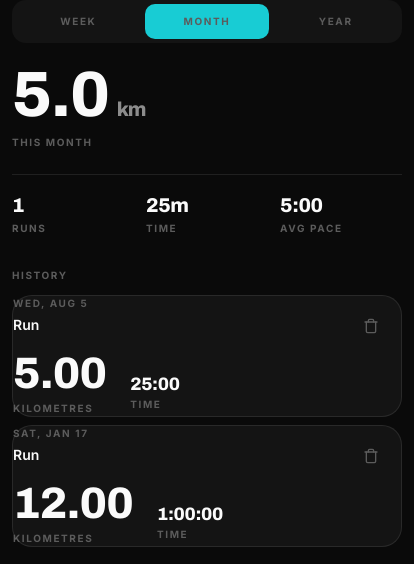
RunsSection · period switcher › re-scopes the totals when a different period is chosen
Click the button "year" at (336, 22), box [273,4,398,39]
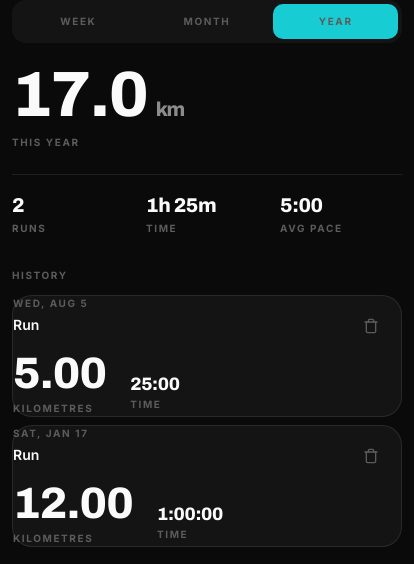
Expected: the text "This year" is shown, [12,136,80,148]
